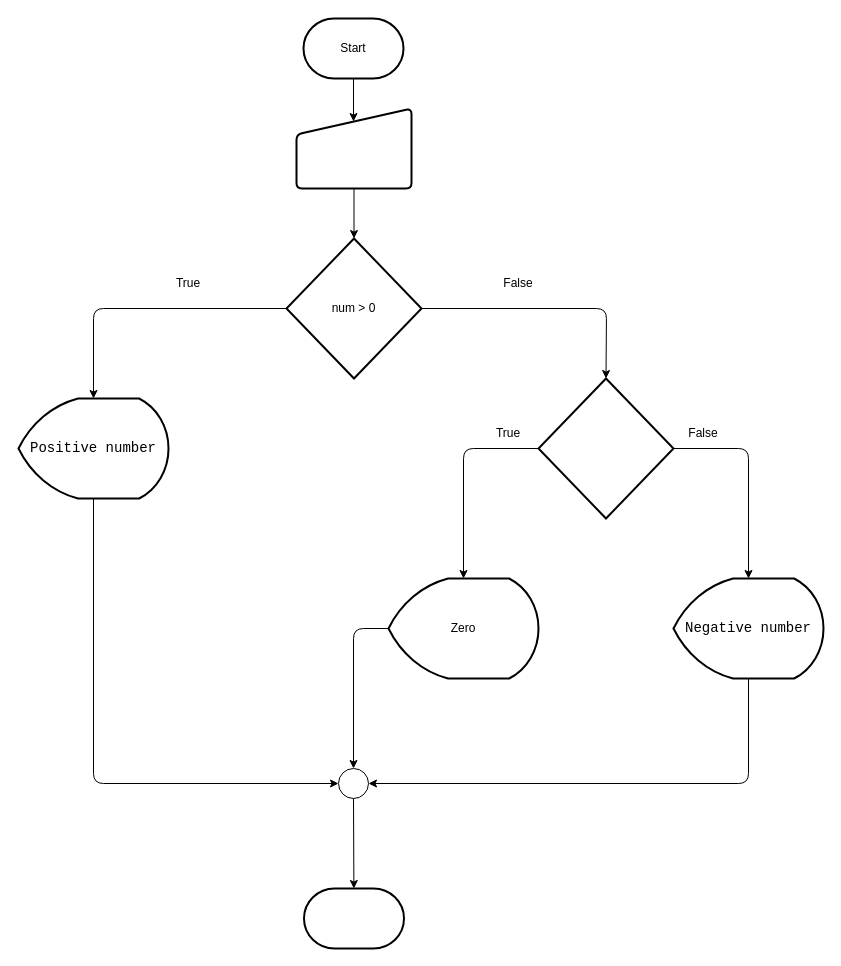
The diagram is 841 pixels wide and 966 high, and some of its shapes have lost their labels. The centre of each missing label's shape, as x and y in pixels:
"End" belongs at (x=353, y=918).
"Enter a number" belongs at (x=353, y=148).
"num <= 0" belongs at (x=605, y=448).
